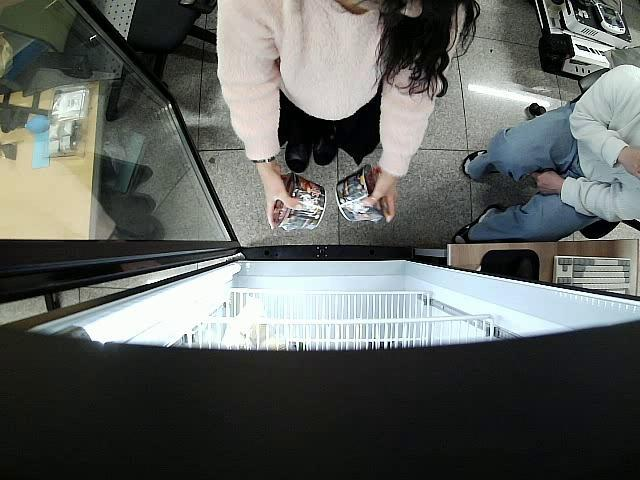07_buldak_L: (272, 168, 326, 233), (337, 166, 388, 221)
